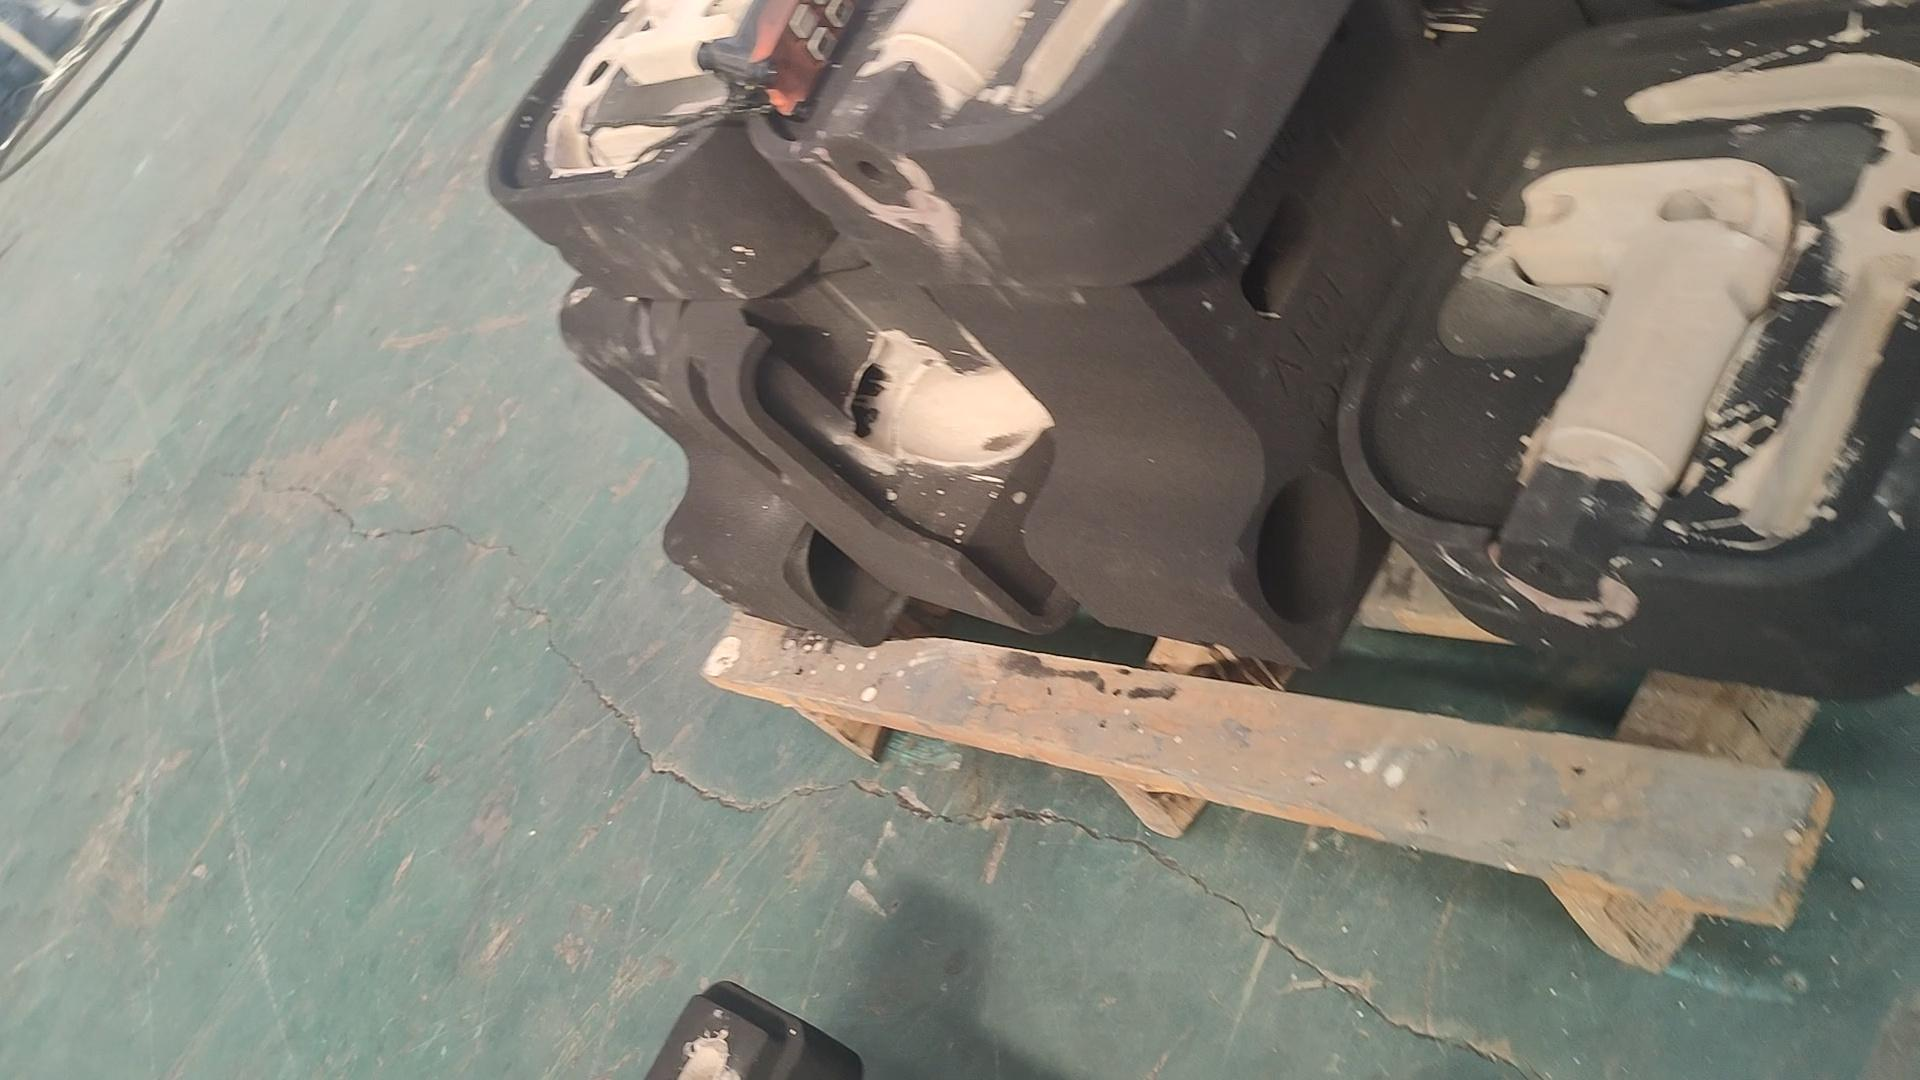pouring hole: (1254, 465, 1358, 624), (799, 520, 909, 615)
